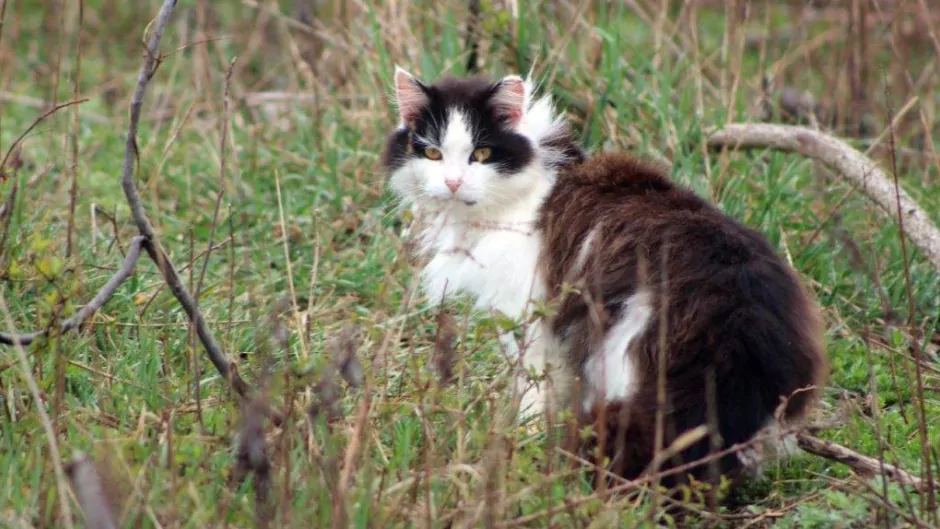Cat: (363, 44, 850, 501)
